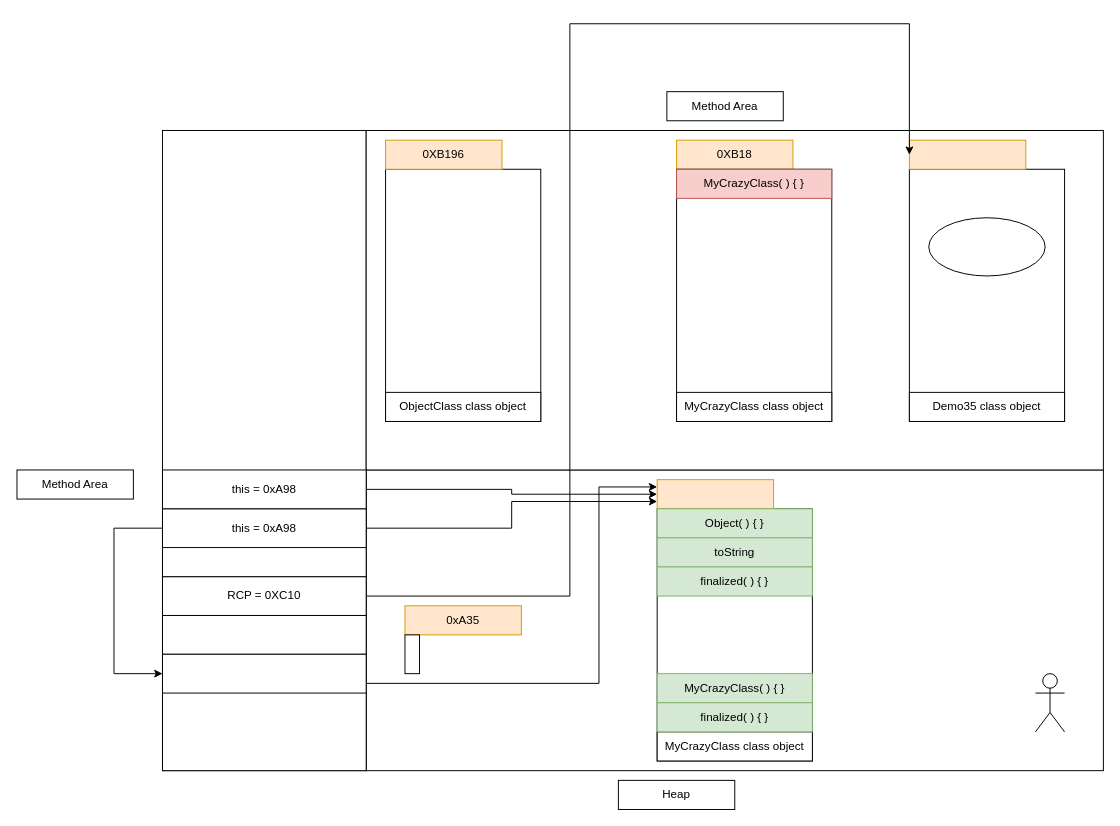
Some shapes in this 1120 by 826 pixel diagram are drawn without their labels. The shapes that lost their labels are listed below. From the top down, each one's box as (x1, y1, x2, y2) in pixels, then its label:
(908, 139, 1026, 169): 0XC10
(928, 217, 1045, 276): PSVM
(656, 479, 774, 509): 0xA98
(162, 614, 366, 654): String[ ] args = 0xA35
(162, 653, 366, 693): MyCrazyClass crazyClass1 = 0xA98
(1035, 673, 1065, 732): Actor
